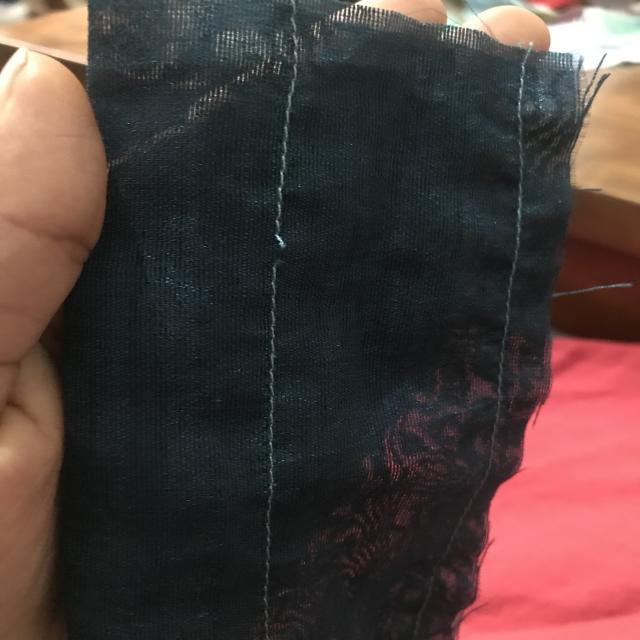broken: (253, 213, 302, 287)
good: (257, 324, 296, 496), (278, 90, 304, 176)
